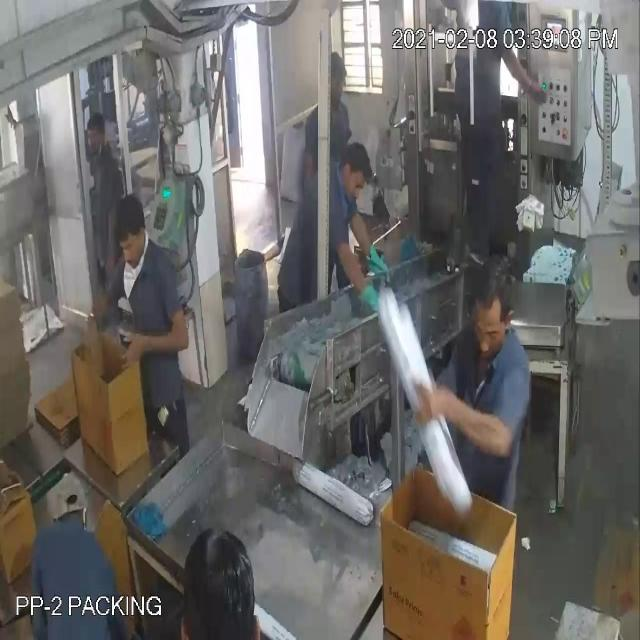No_Gloves: (53, 72, 525, 423)
